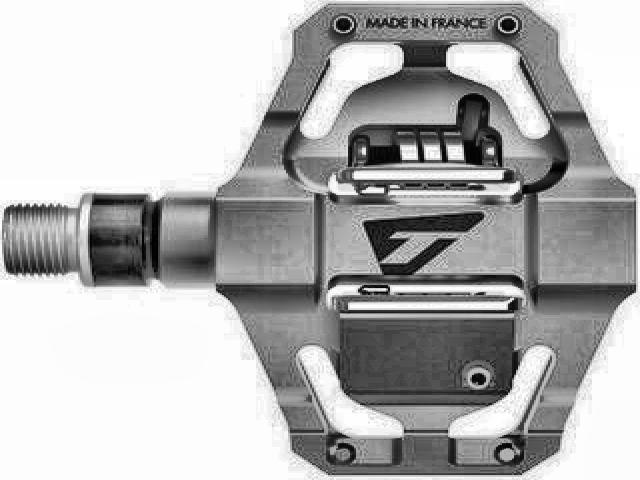pedal: (3, 2, 631, 474)
